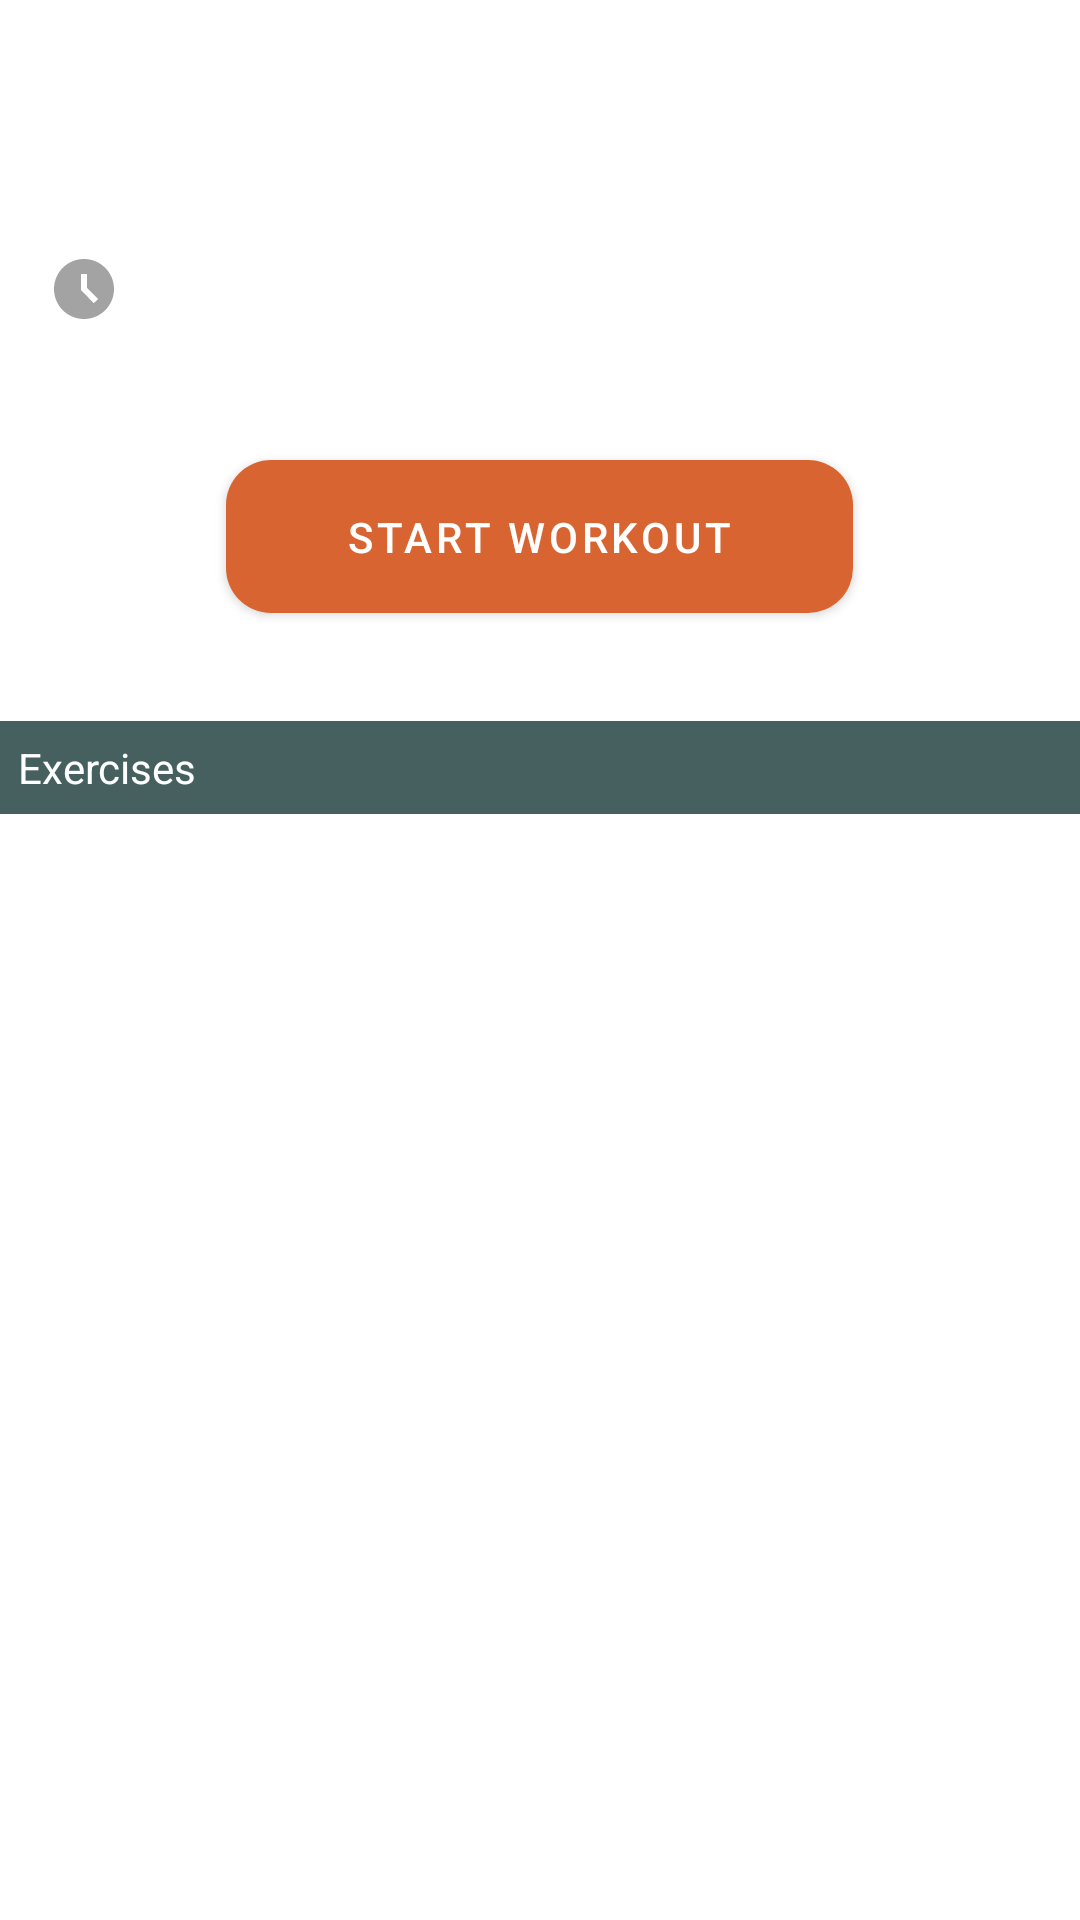

Icon click points for this 1080px×1920px phone screenshot, format point (x, y):
access time: point (84, 289)
